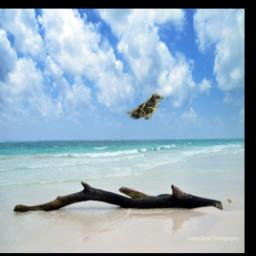Cuckoo: (125, 93, 164, 119)
